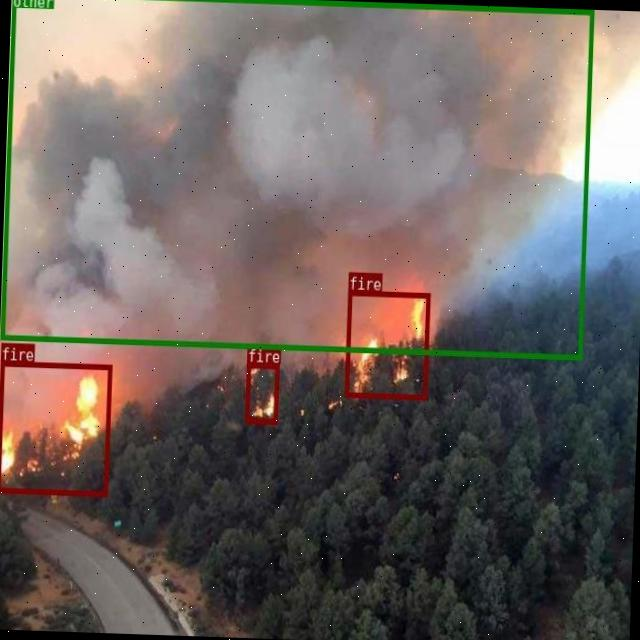fire: (0, 360, 111, 495), (344, 290, 429, 399), (245, 362, 278, 422)
